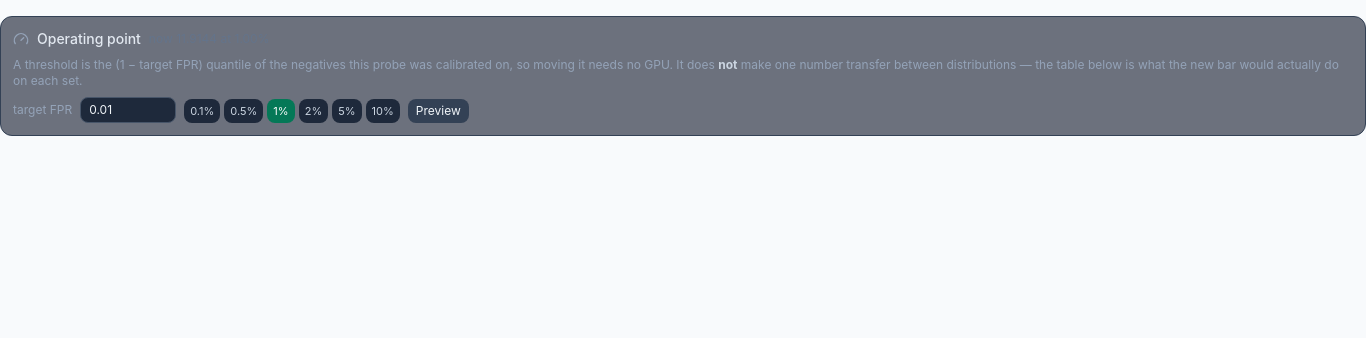
it: ThresholdDial › shows both ends of the move, not just the new number
The width and height of the screenshot is (1366, 338).
Click the button "Preview": point(438, 111) [408,99,469,123]
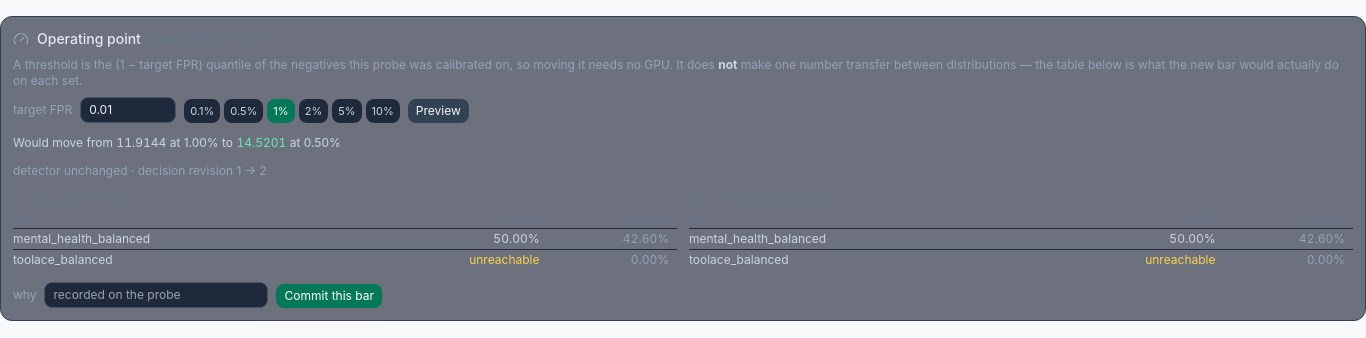
expect the element with test id "recalibrate-proposal" shows "11.9144": met, box [116,135,166,150]
expect the element with test id "recalibrate-proposal" shows "14.5201": met, box [236,135,286,150]
